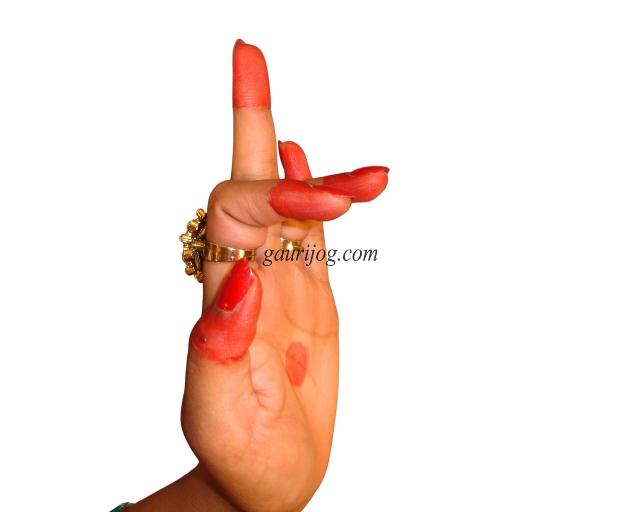shuktund: (156, 40, 389, 510)
